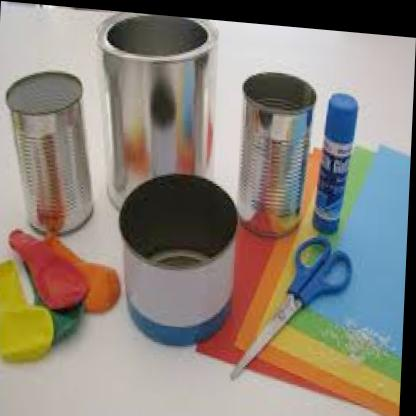Metal: (86, 13, 238, 207), (113, 163, 254, 321), (0, 58, 107, 239), (269, 58, 320, 201)
